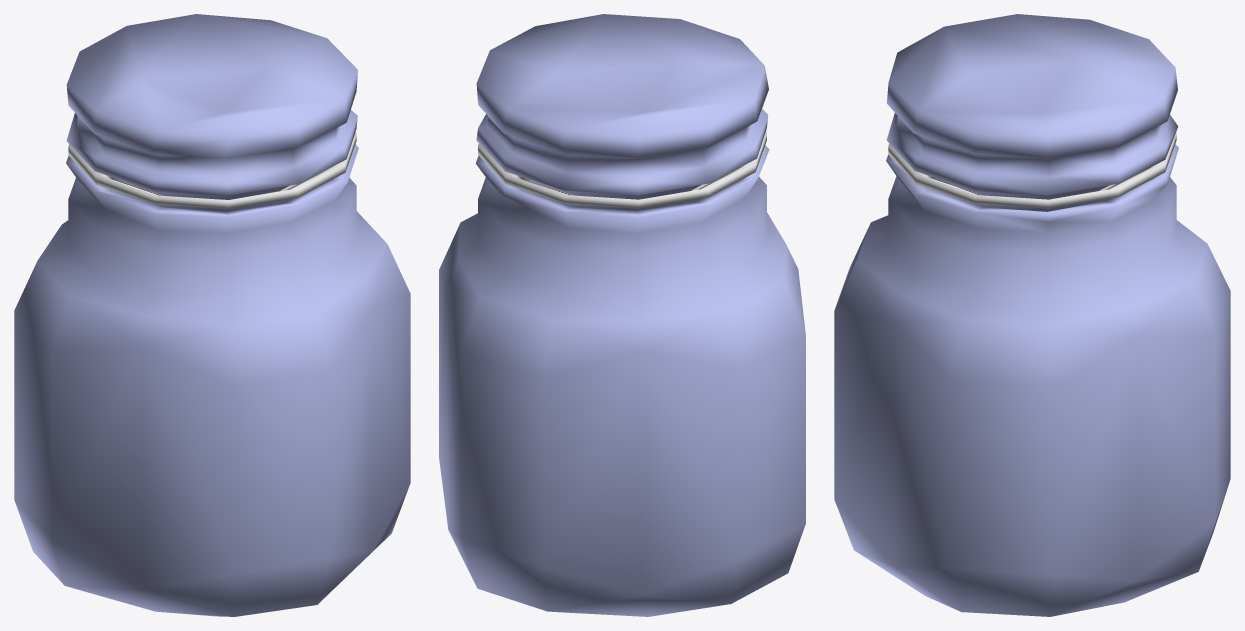
File: kidney.fbx
3 views of the same model, side by side, from view 1: azimuth 30°, elevation 25°; view 2: azimuth 150°, elevation 25°; view 3: azimuth 270°, elevation 25° (orthographic).
Visible parts, largest first — view 1: kitchen.preserving.jar.small; view 2: kitchen.preserving.jar.small; view 3: kitchen.preserving.jar.small.
Boxes of the visible parts, left/top/right/bottom form: kitchen.preserving.jar.small: left=14, top=14, right=410, bottom=616; kitchen.preserving.jar.small: left=439, top=14, right=805, bottom=616; kitchen.preserving.jar.small: left=834, top=14, right=1230, bottom=616.
Size of the model in its own units: 378 by 509 by 378.
